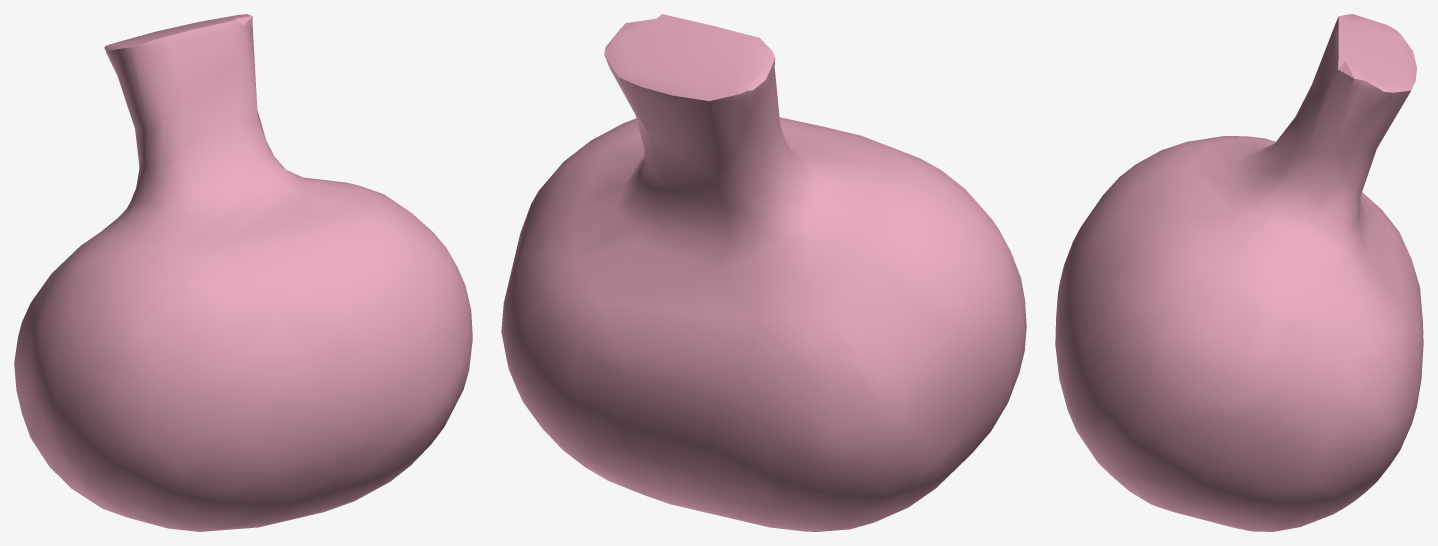
File: pituitary.glb
3 views of the same model, side by side, from view 1: azimuth 30°, elevation 25°; view 2: azimuth 150°, elevation 25°; view 3: azimuth 270°, elevation 25° (orthographic). The views are drawn at different scales.
Visible parts, largest first — view 1: grp1; view 2: grp1; view 3: grp1.
Part boxes in pixels (left/top/right/bottom): grp1: left=14, top=14, right=472, bottom=531; grp1: left=501, top=14, right=1026, bottom=531; grp1: left=1055, top=14, right=1423, bottom=531.
Bounding box in the file's own units: 0.0123 × 0.013 × 0.00946.
